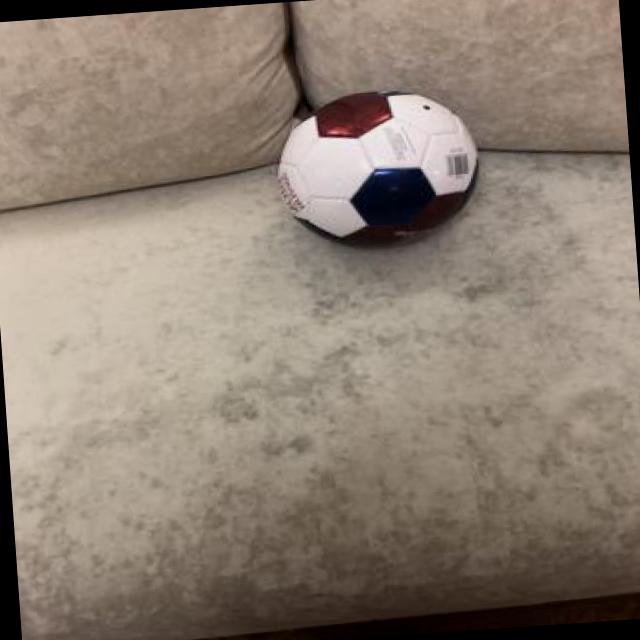Soccer Ball: (266, 79, 484, 252)
